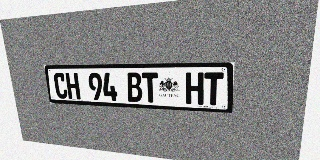4: (102, 73, 118, 101)
9: (88, 73, 104, 100)
B: (126, 72, 143, 102)
C: (53, 73, 68, 99)
H: (186, 72, 204, 105), (65, 73, 81, 99)
T: (204, 72, 224, 106), (142, 72, 159, 103)
